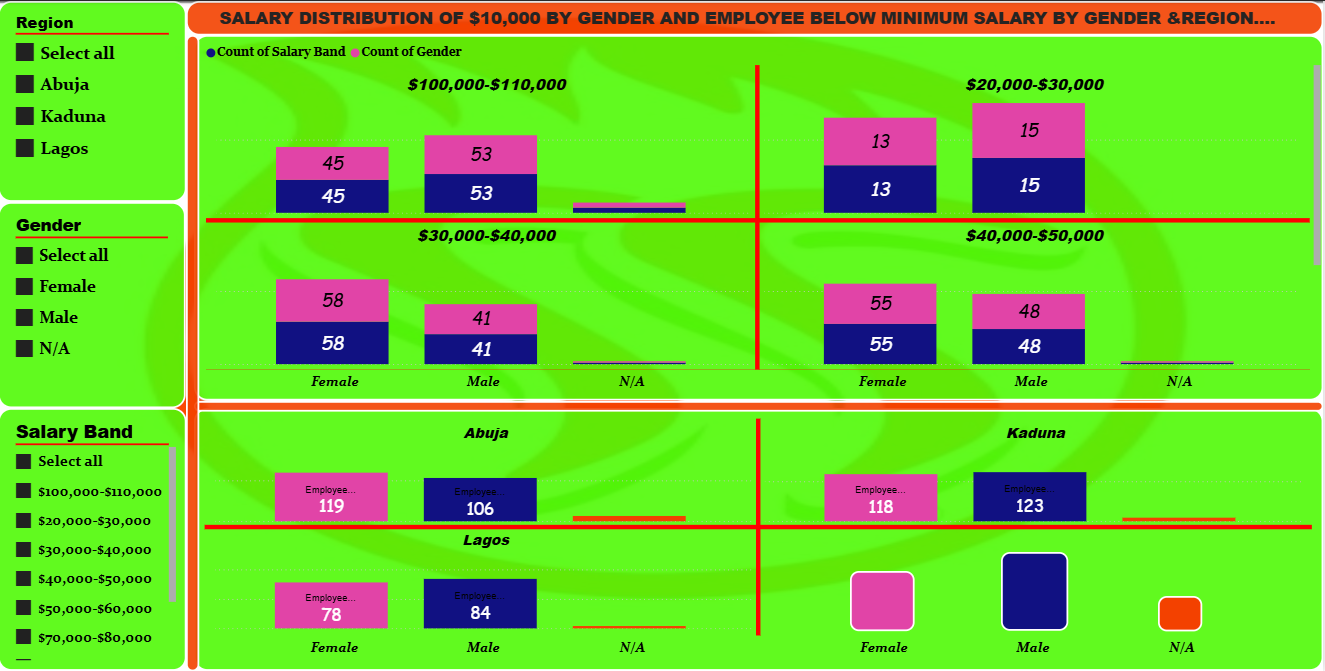

The page's visual inventory and layout, read from the dashboard file:
{"tool":"powerbi","page":{"name":"Page 3","canvas":[1497,757],"ordinal":2},"visuals":[{"type":"slicer","fields":{"Values":["MY BI PROJECT.Region"]},"box":[0,0,212.7,226.9],"z":0},{"type":"slicer","fields":{"Values":["MY BI PROJECT.Gender"]},"box":[0,227.1,212.2,232.8],"z":1000},{"type":"slicer","fields":{"Values":["MY BI PROJECT.Salary Band"]},"box":[0,459.8,213.4,296.7],"z":2000},{"type":"lineStackedColumnComboChart","fields":{"Y":["CountNonNull(MY BI PROJECT.Salary Band)","CountNonNull(MY BI PROJECT.Gender)"],"Category":["MY BI PROJECT.Gender","MY BI PROJECT.Salary Band"],"Rows":["MY BI PROJECT.Salary Band"]},"box":[221.4,38.8,1275.6,413],"z":3000},{"type":"clusteredColumnChart","fields":{"Y":["MY BI PROJECT.Employees below minimum salary"],"Category":["MY BI PROJECT.Region","MY BI PROJECT.Gender"],"Rows":["MY BI PROJECT.Region"]},"box":[221.5,459.8,1275.6,297.2],"z":4000},{"type":"textbox","box":[212.2,0,1284.8,38.8],"z":5000},{"type":"shape","box":[221.5,451.9,1275.6,7.9],"z":6000},{"type":"shape","box":[212.4,38.4,9,718.6],"z":7000},{"type":"shape","box":[962.6,644,73.4,67.8],"z":8000},{"type":"shape","box":[1133.2,622.5,75.7,89.3],"z":9000},{"type":"shape","box":[1311,672.1,50.2,39.9],"z":10000}]}

Visuals, with their boxes in screenshot pixels (x1, y1, x2, y2), scaled from the page's 1497x757 canvas onto the 1325x671 screenshot:
slicer - MY BI PROJECT.Region: 0 0 188 201
slicer - MY BI PROJECT.Gender: 0 201 188 408
slicer - MY BI PROJECT.Salary Band: 0 408 189 670
lineStackedColumnComboChart - CountNonNull(MY BI PROJECT.Salary Band) x CountNonNull(MY BI PROJECT.Gender): 196 34 1324 400
clusteredColumnChart - MY BI PROJECT.Employees below minimum salary x MY BI PROJECT.Region: 196 408 1324 670
textbox: 188 0 1324 34
shape: 196 401 1324 408
shape: 188 34 196 670
shape: 852 571 917 631
shape: 1003 552 1070 631
shape: 1160 596 1205 631
